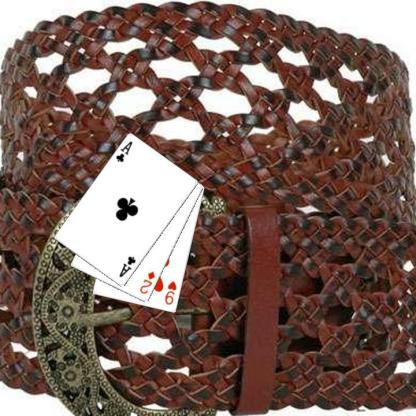2D: (137, 269, 156, 295)
9H: (162, 279, 178, 306)
AC: (113, 138, 134, 164), (116, 254, 137, 278)
